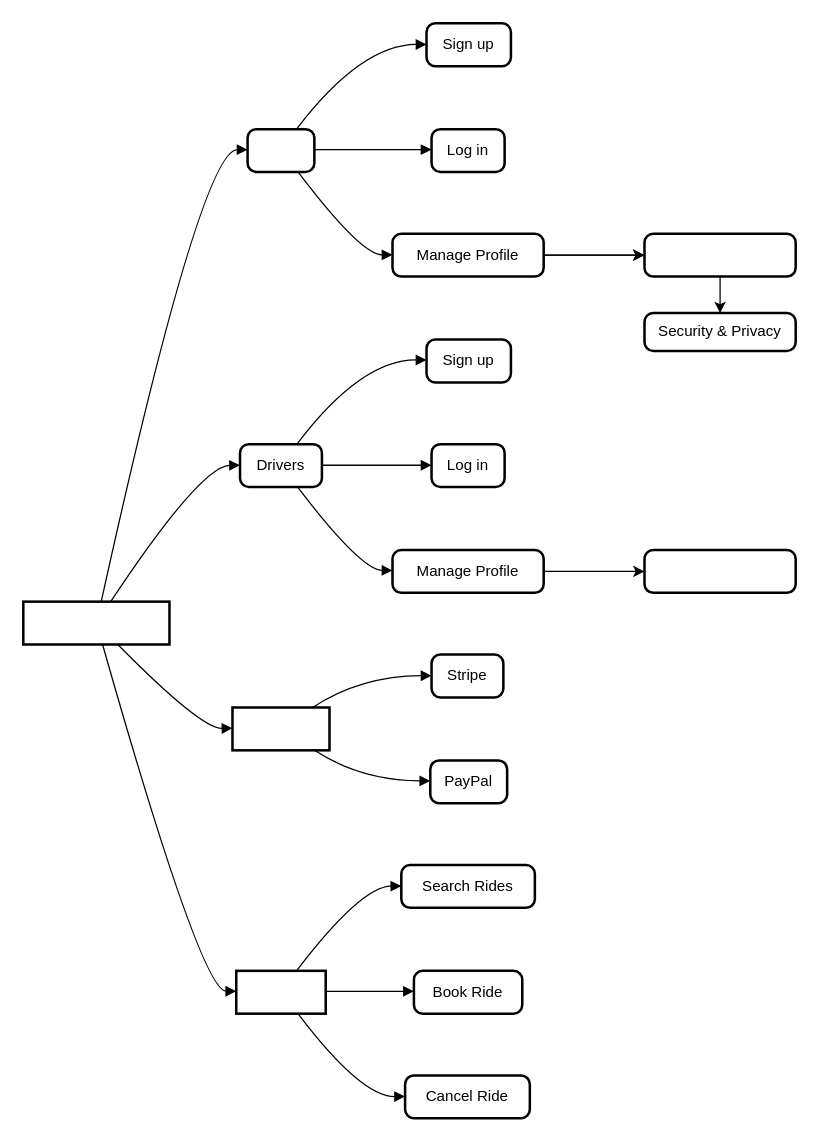
Image size: 818x1140. Some labels were removed from this diagram. Each missing label, with the box of its shape:
Booking: (234, 969, 326, 1014)
Dashboard: (643, 548, 796, 593)
Payment: (231, 706, 330, 751)
Rideshare app: (21, 600, 170, 645)
Settings: (643, 232, 796, 277)
Users: (246, 127, 315, 173)
